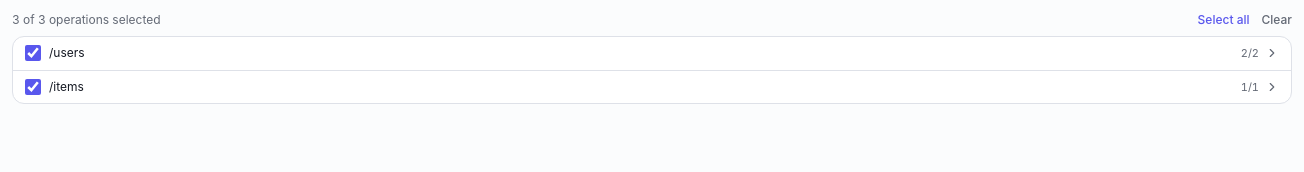
Test: OperationPicker › select all / clear toggle the whole set
Click the button "Clear": (1277, 20) [1262,12,1292,28]
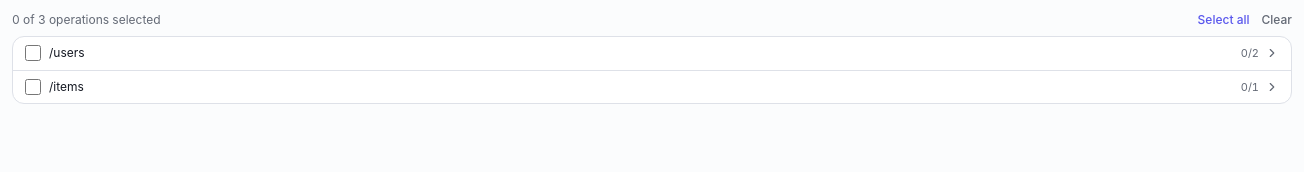
Result: the text "0 of 3 operations selected" is shown at [12,12,161,28]
Click the button "Select all": (1224, 20) [1198,12,1250,28]
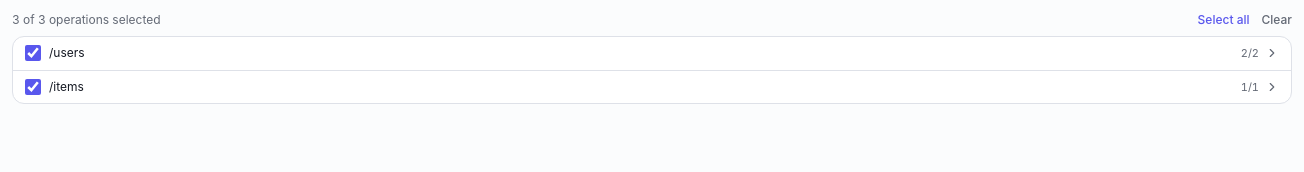
Result: the text "3 of 3 operations selected" is shown at [12,12,161,28]
